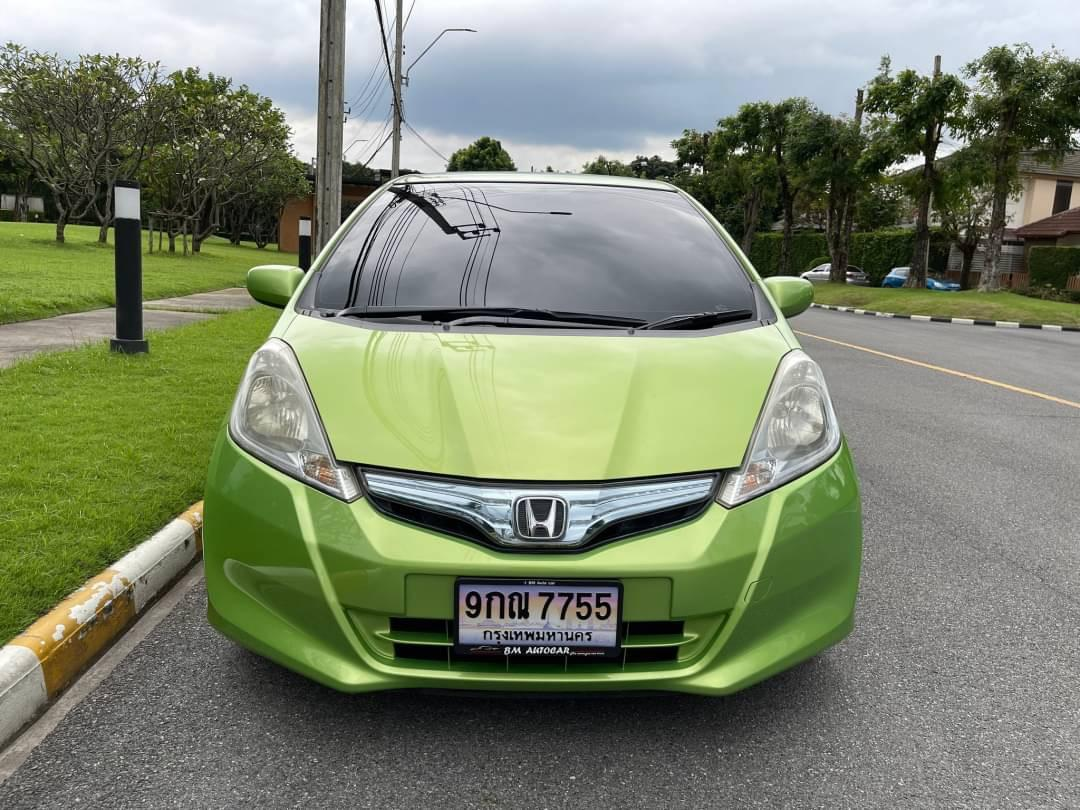license-plate: (450, 574, 625, 663)
